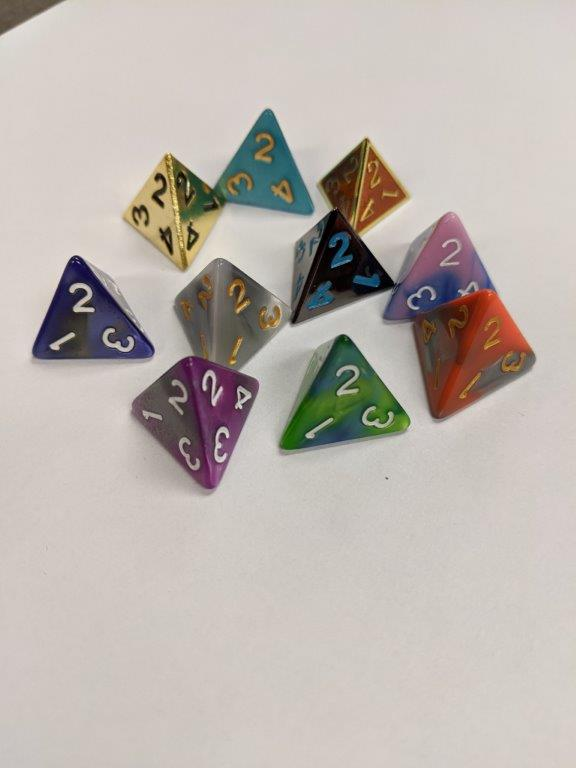d4-2: (128, 353, 261, 495), (413, 292, 538, 420), (280, 336, 411, 446), (29, 254, 156, 363), (118, 148, 223, 269), (388, 210, 505, 312), (172, 257, 288, 354), (211, 106, 314, 214), (291, 211, 390, 323), (316, 135, 408, 226)
